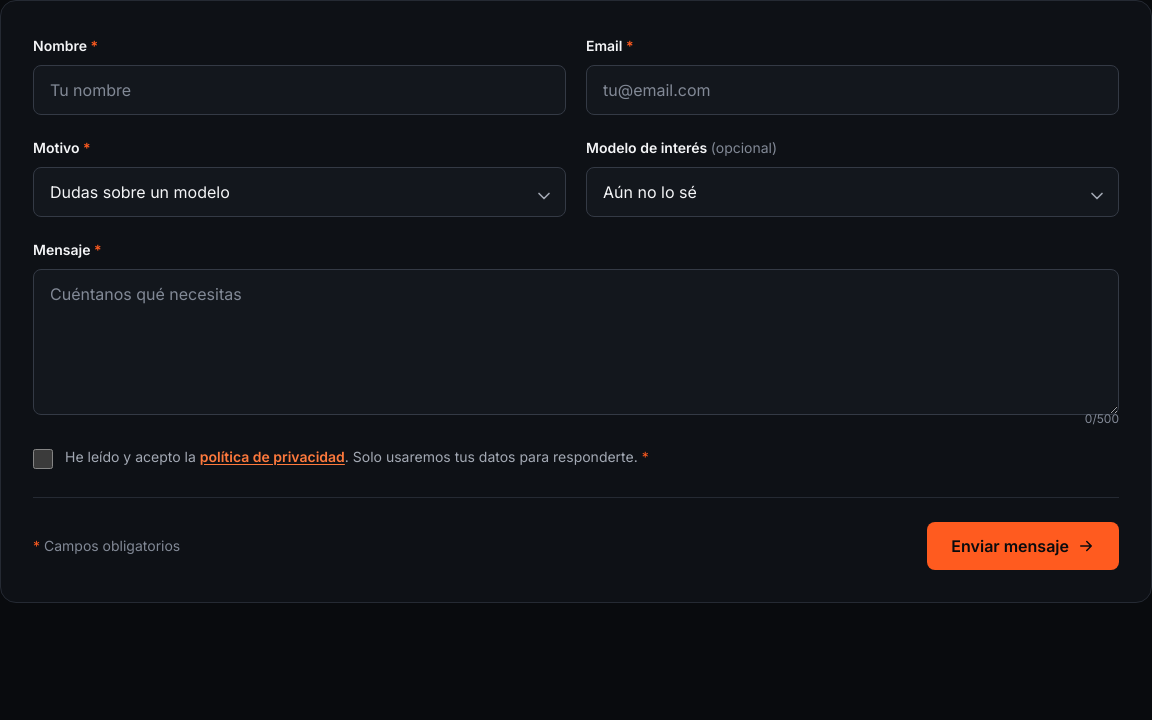
Test case: ContactForm › si falla el envío avisa y conserva lo escrito
Type "Laura" into the field labelled "Nombre *".
click(300, 90); type("Laura")  # box [33,65,566,115]
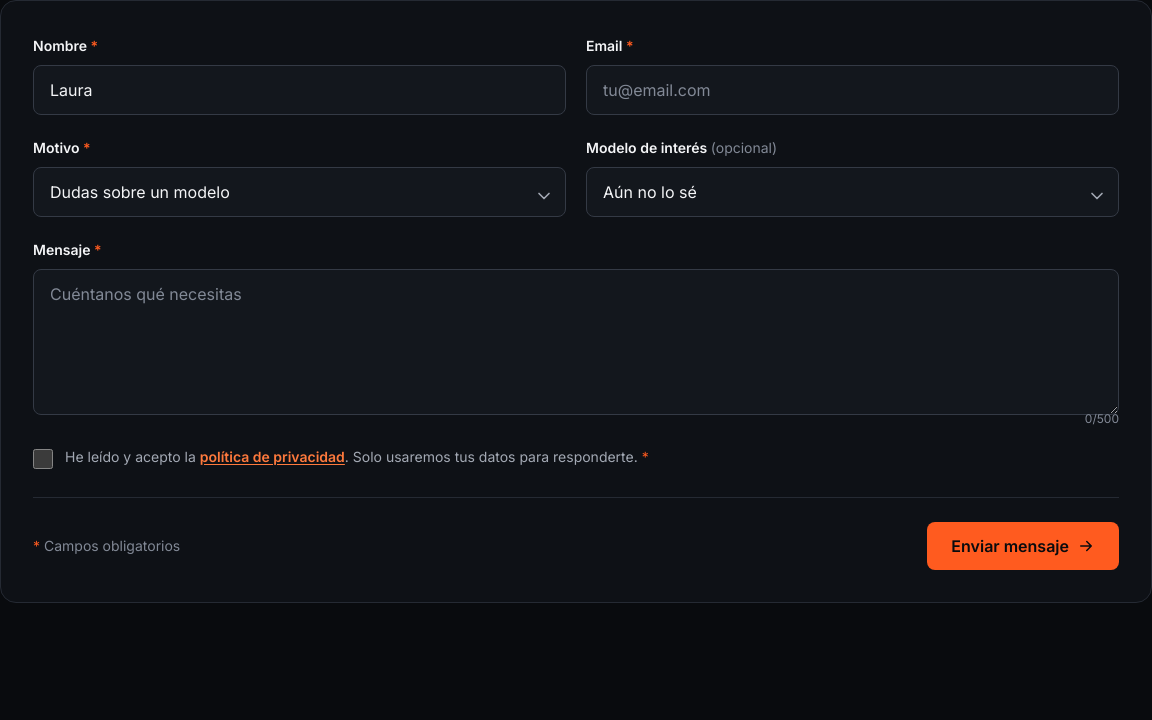
Type "laura@correo.com" into the field labelled "Email *".
click(852, 90); type("laura@correo.com")  # box [586,65,1119,115]
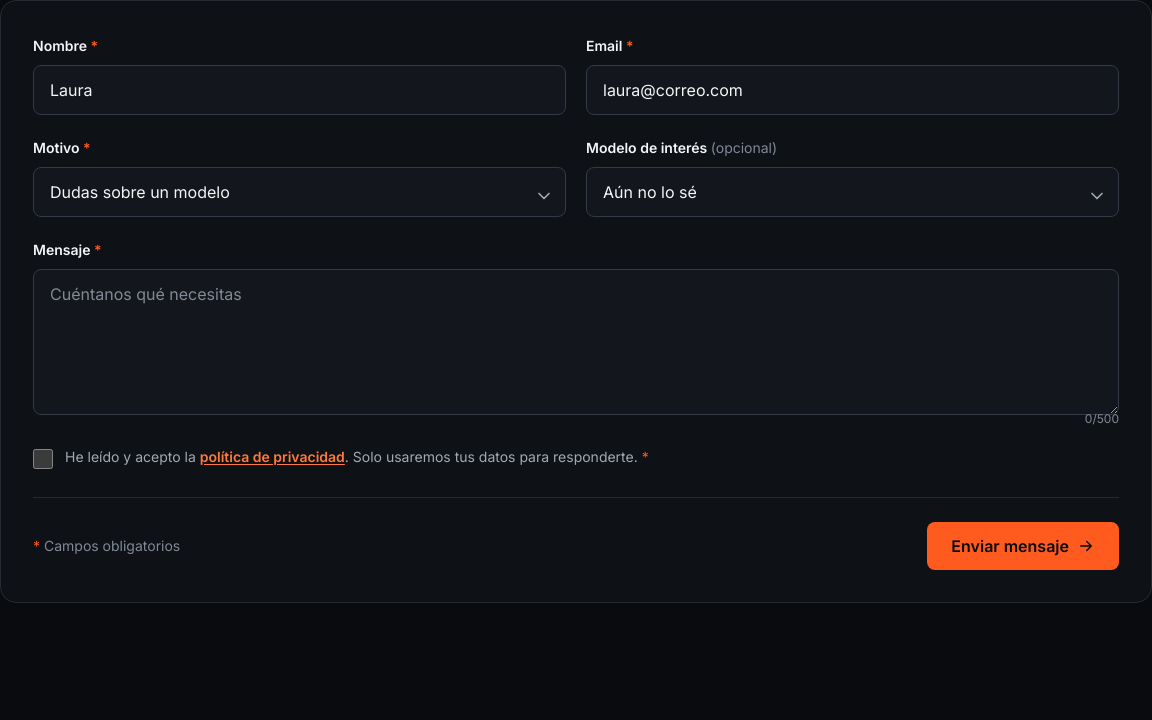
Type "Quiero información del Flash R1." into the text box labelled "Mensaje *".
click(576, 342); type("Quiero información del Flash R1.")  # box [33,269,1119,415]
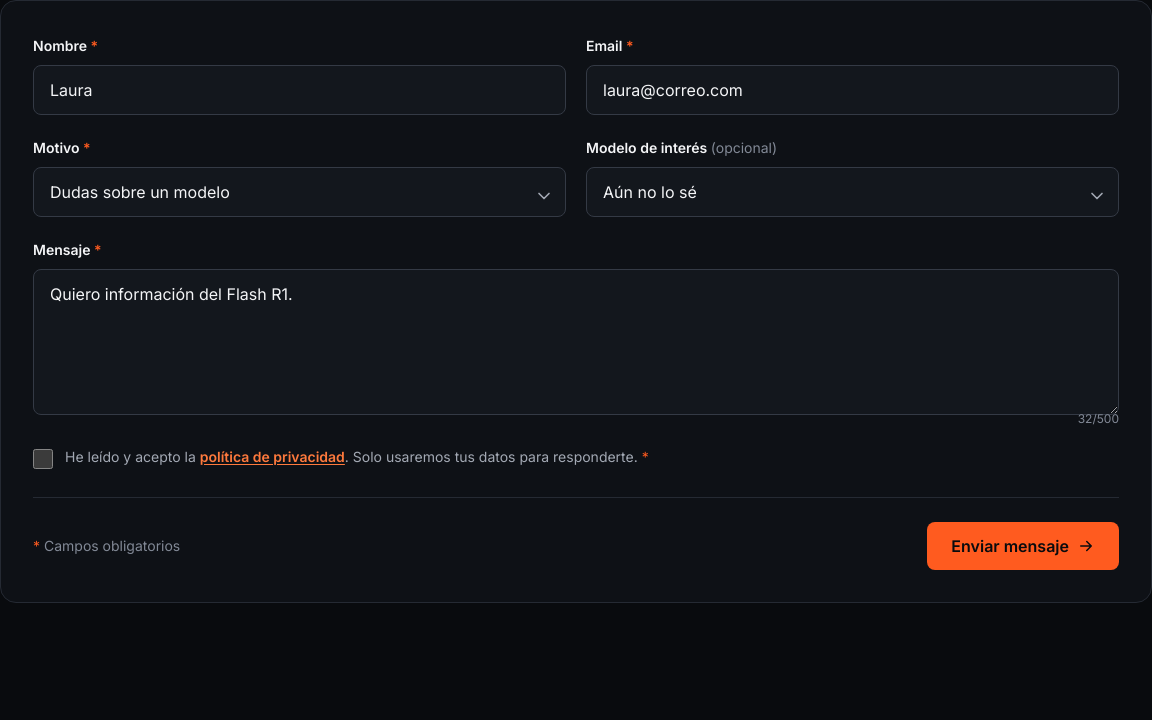
Click the checkbox.
click(43, 459)  # box [33,449,53,469]
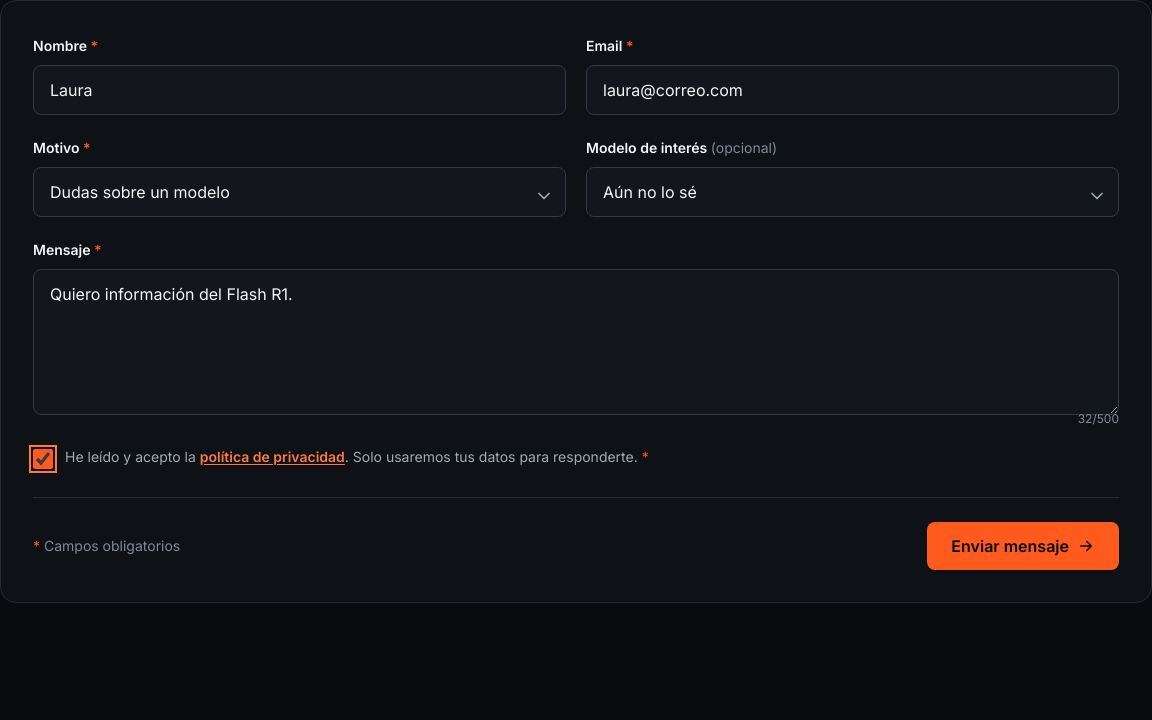
Click the button "Enviar mensaje".
click(1023, 546)  # box [927,522,1119,570]
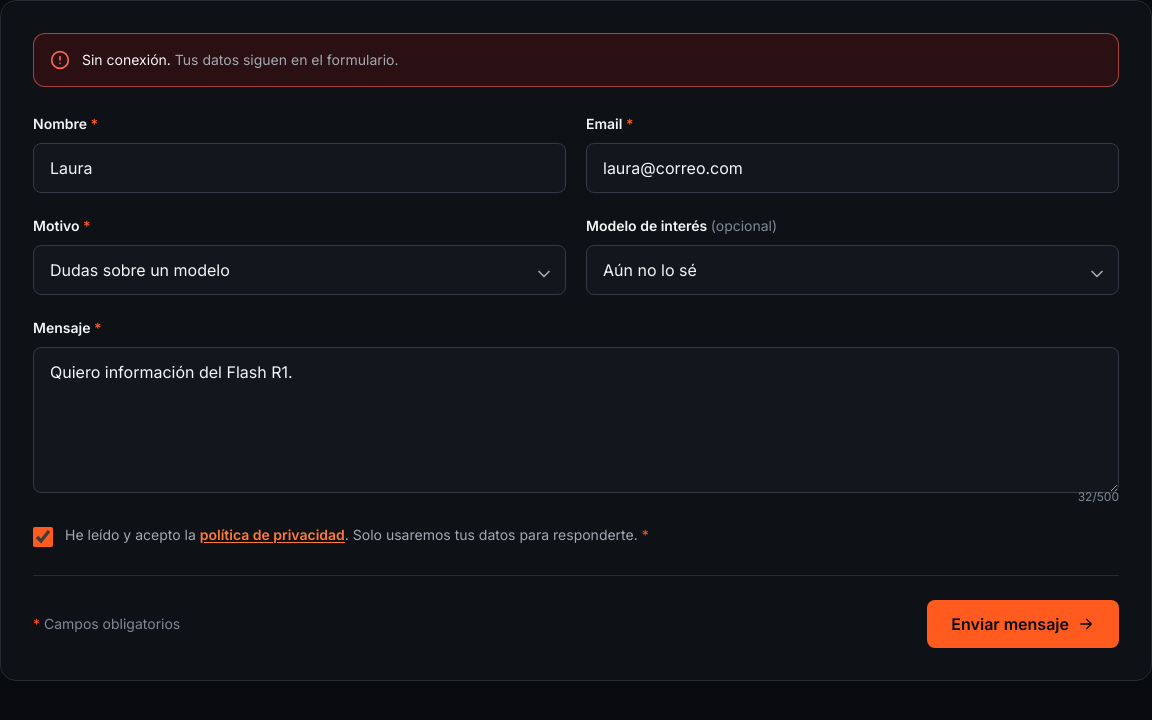
expect the message shows "Sin conexión.": met, box [82,51,171,68]
